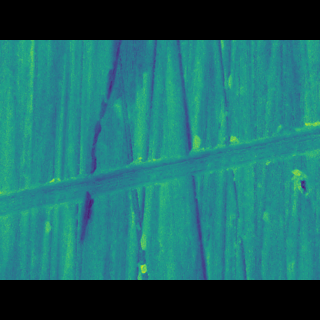Loch: (0, 126, 320, 203), (46, 70, 84, 249), (286, 164, 319, 191)
